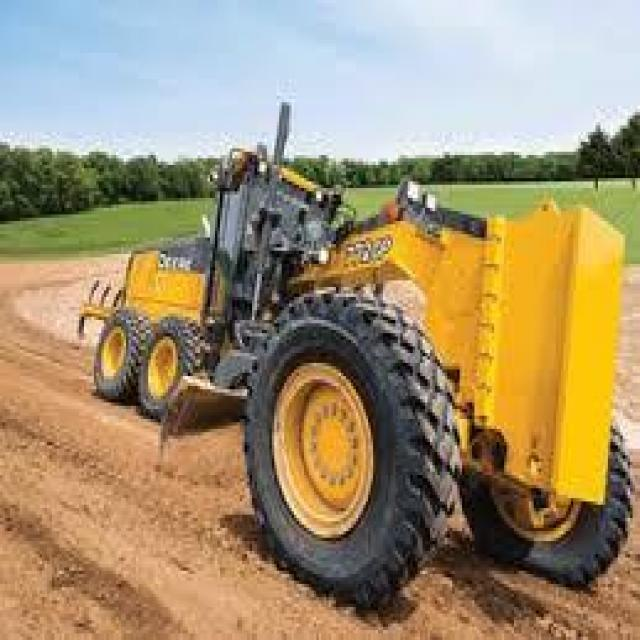Grader: (74, 112, 638, 620)
